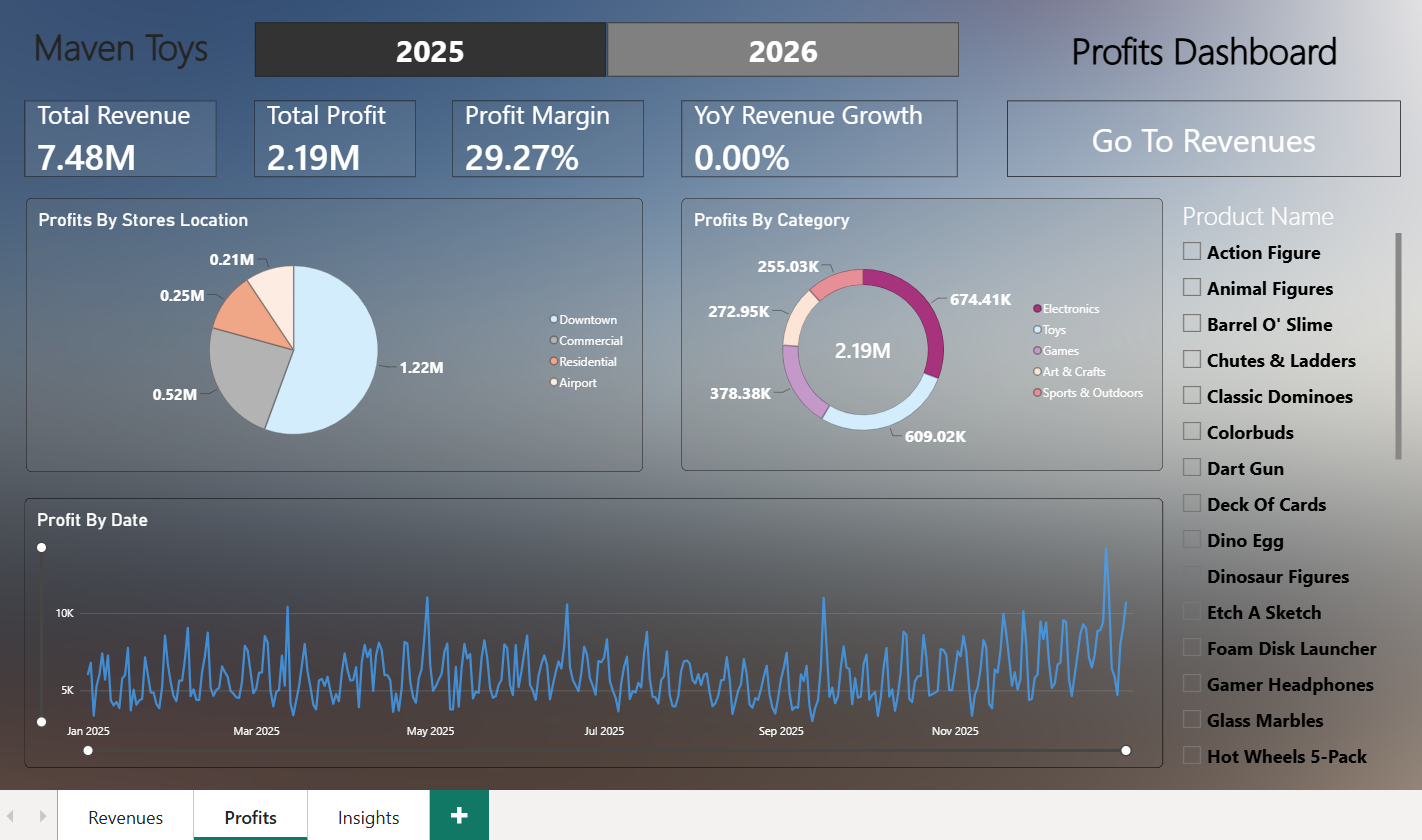

The page's visual inventory and layout, read from the dashboard file:
{"tool":"powerbi","page":{"name":"Profits","canvas":[1920,1080],"ordinal":1},"visuals":[{"type":"image","box":[0,0,1920,1080],"z":0},{"type":"cardVisual","fields":{"Data":["measures_.Total Sales Revenue"]},"box":[46,138,256,102],"z":1000},{"type":"cardVisual","fields":{"Data":["measures_.Total Profit"]},"box":[352,138,216,102],"z":2000},{"type":"cardVisual","fields":{"Data":["measures_.Profit Margin %"]},"box":[616,138,256,102],"z":3000},{"type":"cardVisual","fields":{"Data":["measures_.YoY Revenue Growth %"]},"box":[922,138,368,102],"z":4000},{"type":"slicer","fields":{"Values":["Calendar.Year"]},"box":[331.1,31.5,978.9,75.8],"z":5000},{"type":"shape","box":[1358.9,32.2,523.3,74.4],"z":6000},{"type":"pieChart","title":"Profits By Stores Location","fields":{"Category":["stores.Store_Location"],"Y":["measures_.Total Profit"]},"box":[47.5,267.5,822.5,365],"z":7000},{"type":"donutChart","title":"Profits By Category","fields":{"Category":["products.Product_Category"],"Y":["measures_.Total Profit"]},"box":[922,268,642,364],"z":8000},{"type":"shape","box":[1356.7,138.3,525,101.7],"z":9000},{"type":"actionButton","box":[1356.7,138.3,525,101.7],"z":10000},{"type":"textbox","box":[48,32,254,74],"z":11000},{"type":"lineChart","title":"Profit By Date","fields":{"Category":["Calendar.Date"],"Y":["measures_.Total Profit"]},"box":[46,668,1518,360],"z":12000},{"type":"slicer","fields":{"Values":["products.Product_Name"]},"box":[1582,268,300,760],"z":13000}]}

Visuals, with their boxes on the page's 1920x1080 design canvas (x1, y1, x2, y2). These are canvas units, not pixel positions in the 1422x840 screenshot, which may show the page scaled, cropped or inside an application window:
image: <bbox>0, 0, 1920, 1080</bbox>
cardVisual - measures_.Total Sales Revenue: <bbox>46, 138, 302, 240</bbox>
cardVisual - measures_.Total Profit: <bbox>352, 138, 568, 240</bbox>
cardVisual - measures_.Profit Margin %: <bbox>616, 138, 872, 240</bbox>
cardVisual - measures_.YoY Revenue Growth %: <bbox>922, 138, 1290, 240</bbox>
slicer - Calendar.Year: <bbox>331, 32, 1310, 107</bbox>
shape: <bbox>1359, 32, 1882, 107</bbox>
"Profits By Stores Location" pieChart: <bbox>48, 268, 870, 632</bbox>
"Profits By Category" donutChart: <bbox>922, 268, 1564, 632</bbox>
shape: <bbox>1357, 138, 1882, 240</bbox>
actionButton: <bbox>1357, 138, 1882, 240</bbox>
textbox: <bbox>48, 32, 302, 106</bbox>
"Profit By Date" lineChart: <bbox>46, 668, 1564, 1028</bbox>
slicer - products.Product_Name: <bbox>1582, 268, 1882, 1028</bbox>
